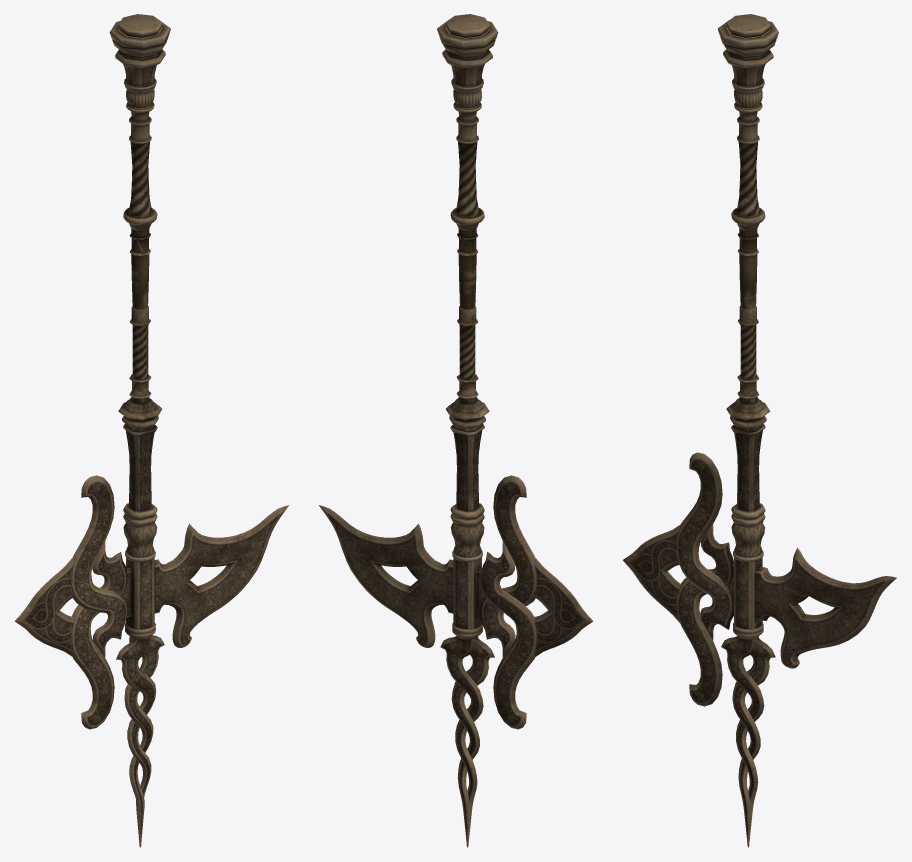
Rendered from weapon-wp_a_1013.glb.
The picture shows the model from 3 angles, left to right: view 1: azimuth 30°, elevation 25°; view 2: azimuth 150°, elevation 25°; view 3: azimuth 330°, elevation 25°; orthographic projection.
Visible parts, largest first — view 1: wp_a_1013_mesh; view 2: wp_a_1013_mesh; view 3: wp_a_1013_mesh.
Part boxes in pixels (box(x1,y1,x2,y2)): wp_a_1013_mesh: box(14, 14, 288, 847); wp_a_1013_mesh: box(319, 14, 593, 847); wp_a_1013_mesh: box(623, 14, 896, 847).
Bounding box in the file's own units: 0.8215 × 2.36 × 0.148.
1 material, 1 textured.
